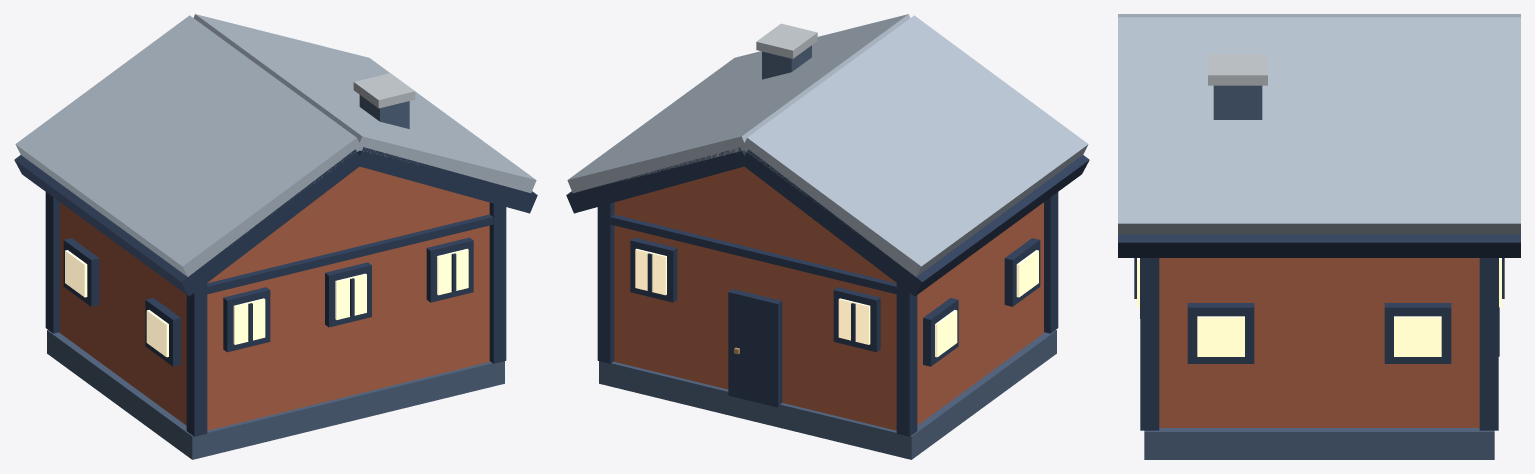
File: rescue-hut.glb
3 renders of one model, left to right at view 1: azimuth 30°, elevation 25°; view 2: azimuth 150°, elevation 25°; view 3: azimuth 270°, elevation 25°, orthographic. The views are drawn at different scales.
Visible parts, largest first — view 1: rescue-hut; view 2: rescue-hut; view 3: rescue-hut.
Part boxes in pixels (x1,y1,x2,y2): rescue-hut: (14, 14, 537, 459); rescue-hut: (566, 14, 1089, 459); rescue-hut: (1118, 14, 1520, 459).
Size of the model in its own units: 4.47 by 3.51 by 3.63.
